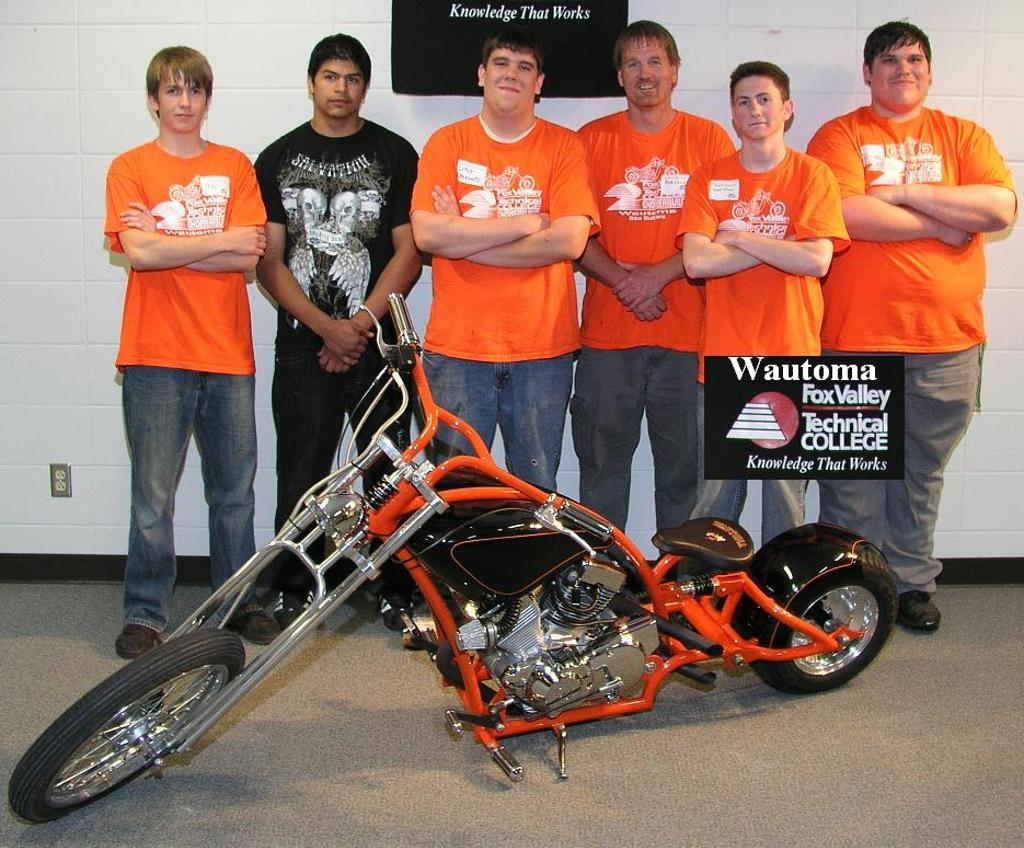face: (485, 44, 537, 111), (870, 46, 928, 103), (621, 40, 669, 106), (158, 67, 206, 131), (315, 55, 364, 117), (734, 78, 781, 137)
